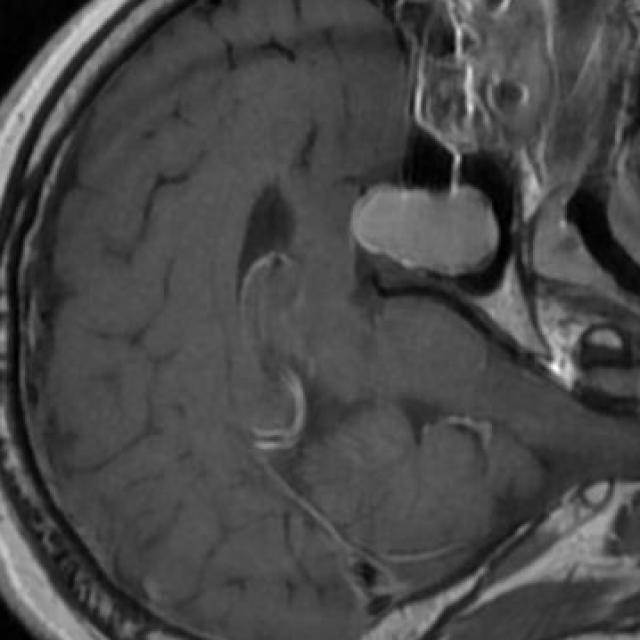pituitary: (351, 185, 499, 276)
